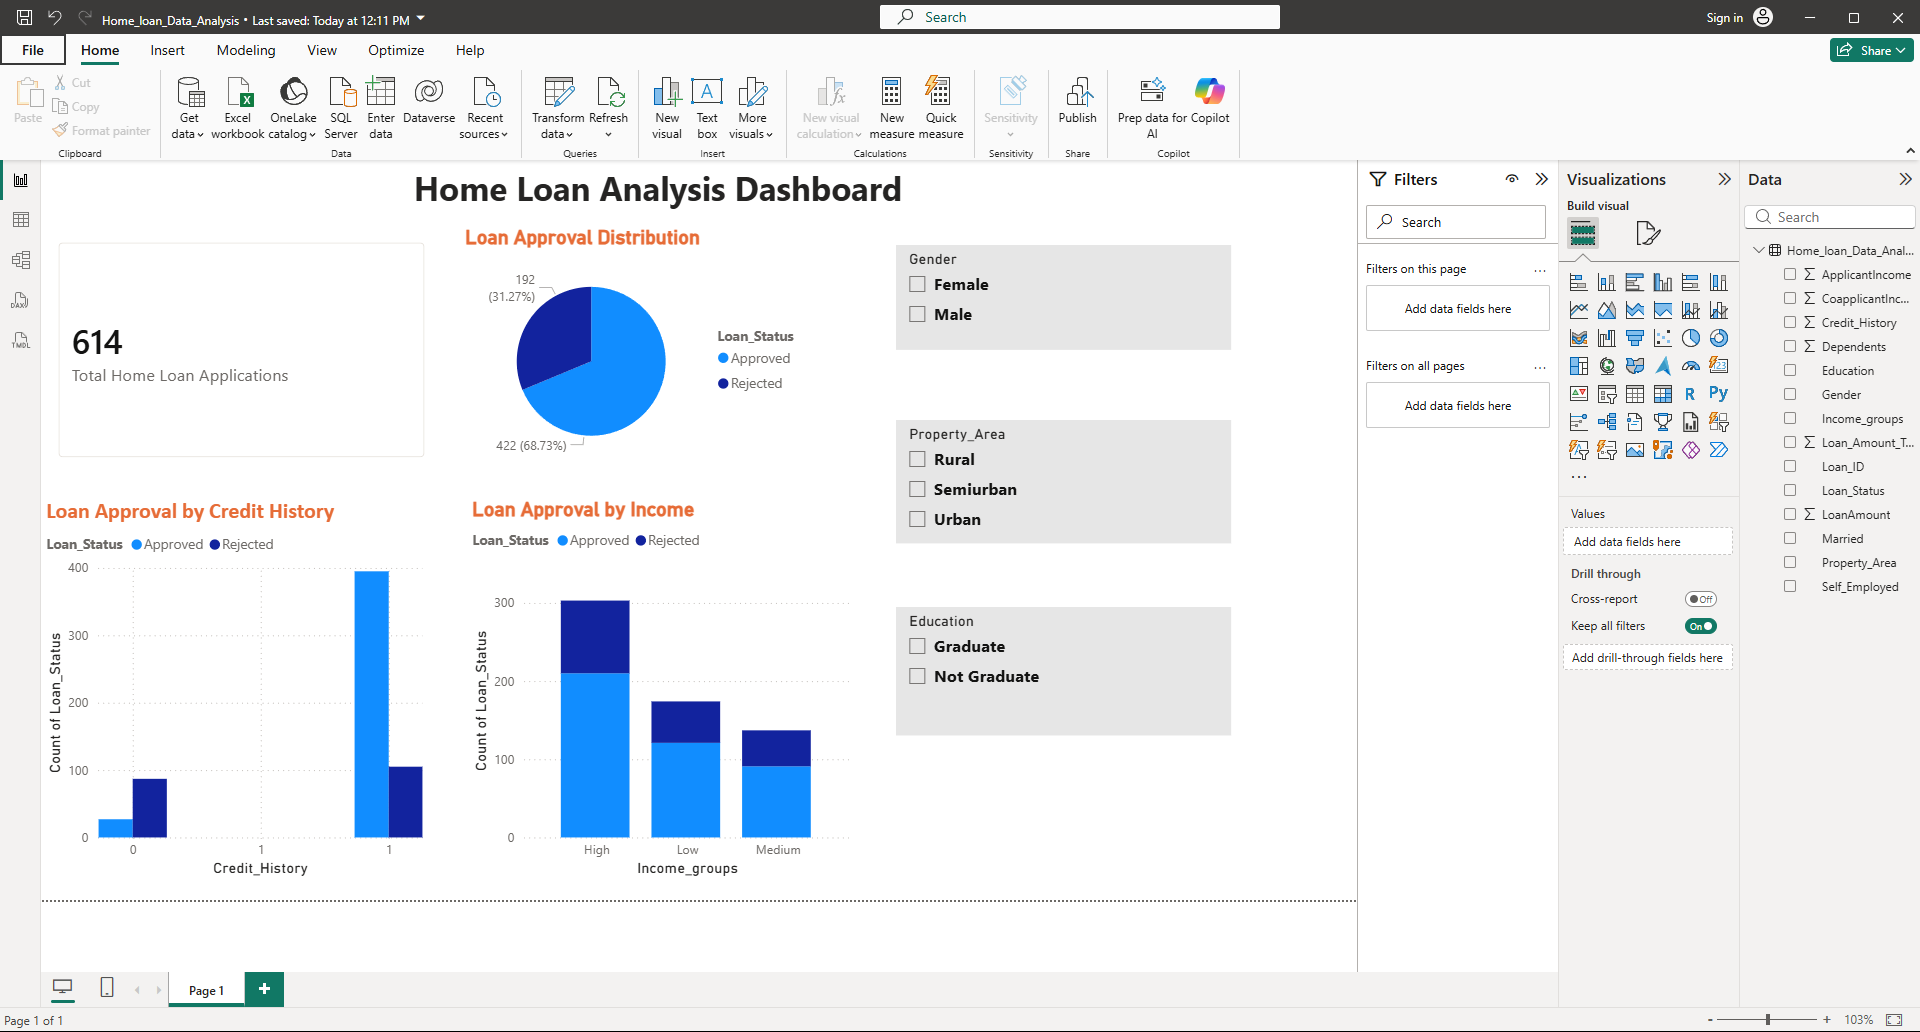

Layout of this report page (visuals, bound fields, positions):
{"tool":"powerbi","page":{"name":"Page 1","canvas":[1280,720],"ordinal":0},"visuals":[{"type":"pieChart","title":"Loan Approval Distribution","fields":{"Category":["Home_loan_Data_Analysis - Home_Loan_data.Loan_Status"],"Y":["CountNonNull(Home_loan_Data_Analysis - Home_Loan_data.Loan_Status)"]},"box":[407.5,63.2,347.2,243.2],"z":0},{"type":"clusteredColumnChart","title":"Loan Approval by Credit History","fields":{"Category":["Home_loan_Data_Analysis - Home_Loan_data.Credit_History"],"Y":["CountNonNull(Home_loan_Data_Analysis - Home_Loan_data.Loan_Status)"],"Series":["Home_loan_Data_Analysis - Home_Loan_data.Loan_Status"]},"box":[0,327.8,376.4,374.5],"z":1000},{"type":"columnChart","title":"Loan Approval by Income","fields":{"Category":["Home_loan_Data_Analysis - Home_Loan_data.Income_groups"],"Y":["CountNonNull(Home_loan_Data_Analysis - Home_Loan_data.Loan_Status)"],"Series":["Home_loan_Data_Analysis - Home_Loan_data.Loan_Status"]},"box":[414.3,327.8,378.4,374.5],"z":2000},{"type":"cardVisual","fields":{"Data":["CountNonNull(Home_loan_Data_Analysis - Home_Loan_data.Loan_Status)"]},"box":[0,63.2,390,243.2],"z":3000},{"type":"slicer","fields":{"Values":["Home_loan_Data_Analysis - Home_Loan_data.Gender"]},"box":[831.6,82.7,325.8,102.1],"z":3001},{"type":"slicer","fields":{"Values":["Home_loan_Data_Analysis - Home_Loan_data.Property_Area"]},"box":[831.6,252.9,325.8,119.6],"z":3002},{"type":"slicer","fields":{"Values":["Home_loan_Data_Analysis - Home_Loan_data.Education"]},"box":[831.6,434.8,325.8,125.5],"z":3003},{"type":"textbox","box":[207.2,0,794.7,63.2],"z":3005}]}

Visuals, with their boxes on the page's 1280x720 design canvas (x1, y1, x2, y2). These are canvas units, not pixel positions in the 1920x1032 screenshot, which may show the page scaled, cropped or inside an application window:
"Loan Approval Distribution" pieChart: bbox=[408, 63, 755, 306]
"Loan Approval by Credit History" clusteredColumnChart: bbox=[0, 328, 376, 702]
"Loan Approval by Income" columnChart: bbox=[414, 328, 793, 702]
cardVisual - CountNonNull(Home_loan_Data_Analysis - Home_Loan_data.Loan_Status): bbox=[0, 63, 390, 306]
slicer - Home_loan_Data_Analysis - Home_Loan_data.Gender: bbox=[832, 83, 1157, 185]
slicer - Home_loan_Data_Analysis - Home_Loan_data.Property_Area: bbox=[832, 253, 1157, 372]
slicer - Home_loan_Data_Analysis - Home_Loan_data.Education: bbox=[832, 435, 1157, 560]
textbox: bbox=[207, 0, 1002, 63]
